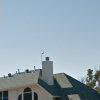Chimney: (36, 45, 59, 87)
